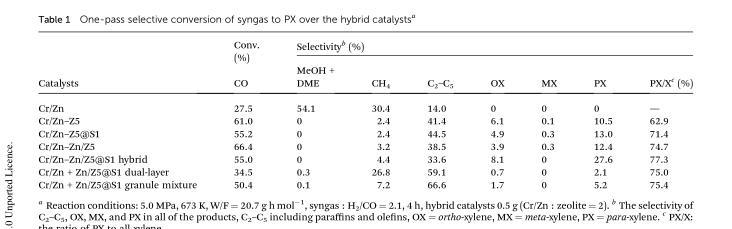table: (37, 37, 692, 189)
table column: (37, 37, 214, 189), (277, 37, 352, 189), (407, 37, 471, 189), (214, 37, 277, 189), (630, 37, 692, 189), (574, 37, 630, 189), (352, 37, 407, 189), (521, 37, 574, 189), (471, 37, 521, 189)
table column header: (37, 37, 692, 95)
table row: (37, 63, 692, 95), (37, 37, 692, 63), (37, 95, 692, 113), (37, 113, 692, 126), (37, 126, 692, 139), (37, 139, 692, 152), (37, 164, 692, 177), (37, 152, 692, 164), (37, 177, 692, 189)
table spanning cell: (277, 37, 692, 63), (37, 37, 214, 95), (214, 37, 277, 95)
